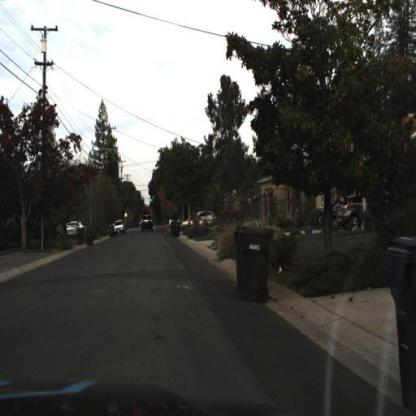car: (337, 193, 366, 233), (56, 217, 94, 242), (182, 212, 213, 237), (317, 196, 338, 230), (316, 199, 338, 230), (197, 200, 217, 219), (114, 216, 130, 239), (140, 215, 154, 236), (114, 219, 126, 236)
